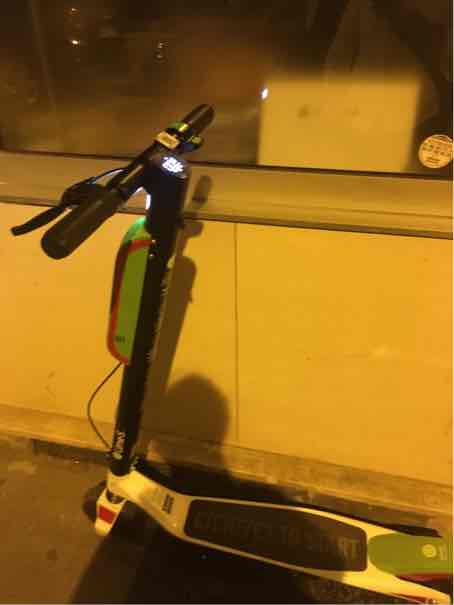scooter: (12, 101, 452, 605)
